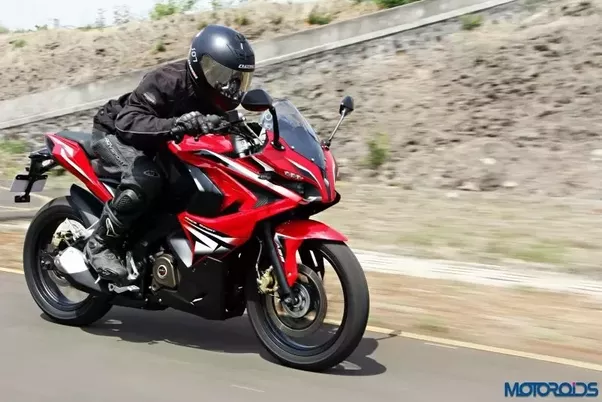helmet: (187, 23, 253, 105)
